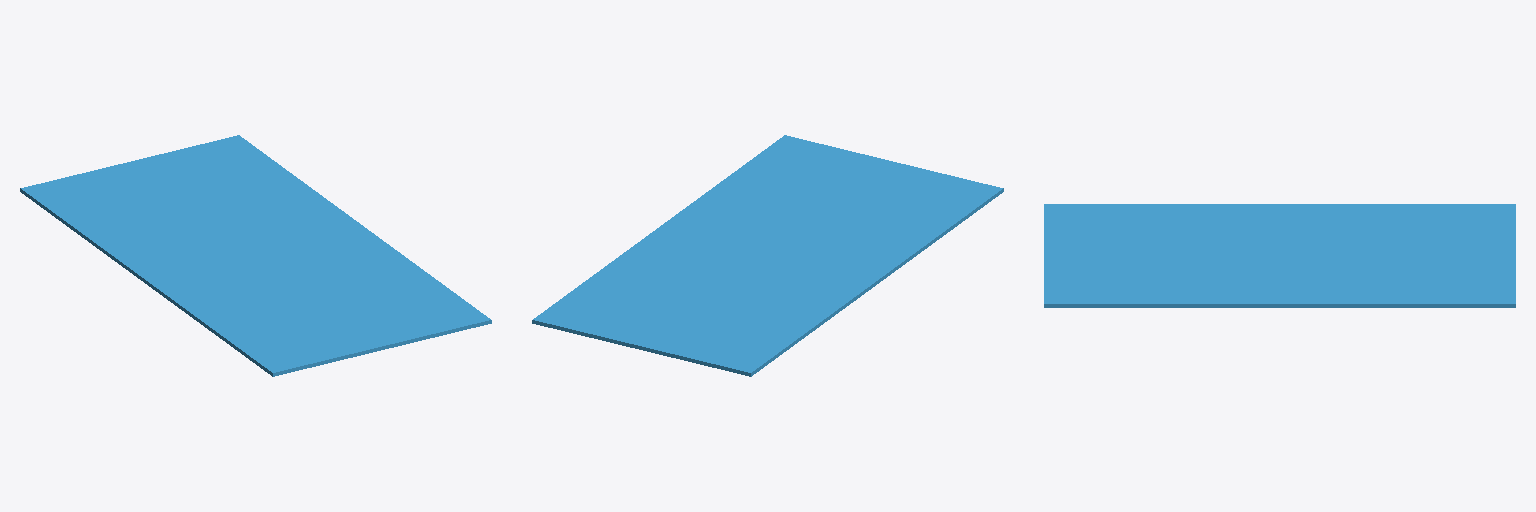
URDF robot description (Banner Buoy):
<?xml version="1.0" encoding="utf-8"?>
<!-- =================================================================================== -->
<!-- |    This document was autogenerated by xacro from sim/scenes/bannerbuoy.urdf.xacro | -->
<!-- |    EDITING THIS FILE BY HAND IS NOT RECOMMENDED                                 | -->
<!-- =================================================================================== -->
<robot name="Banner Buoy">
  <material name="black">
    <color rgba="0.0 0.0 0.0 1.0"/>
  </material>
  <material name="blue">
    <color rgba="0.0 0.0 0.8 1.0"/>
  </material>
  <material name="green">
    <color rgba="0.0 0.8 0.0 1.0"/>
  </material>
  <material name="grey">
    <color rgba="0.2 0.2 0.2 1.0"/>
  </material>
  <material name="orange">
    <color rgba="1.0 0.423529411765 0.0392156862745 1.0"/>
  </material>
  <material name="brown">
    <color rgba="0.870588235294 0.811764705882 0.764705882353 1.0"/>
  </material>
  <material name="red">
    <color rgba="0.8 0.0 0.0 1.0"/>
  </material>
  <material name="white">
    <color rgba="1.0 1.0 1.0 1.0"/>
  </material>
  <pose>0 0 0 0 0 0</pose>
  <self_collide> 0 </self_collide>
  <static>true</static>
  <link name="base_link">
    <inertial>
      <mass value="20"/>
      <origin x="0" y="0" z="-0.1"/>
      <inertia ixx="0" ixy="0" ixz="0" iyy="0" iyz="0" izz="0"/>
    </inertial>
    <visual>
      <origin rpy="3.14159265359 0 0" xyz="0 0 0"/>
      <material name="black"/>
      <geometry>
        <mesh filename="[local-path]/catkin_ws/src/MuddSub/sim/scenes/meshes/Triangle.STL" scale="0.001 0.001 0.001"/>
      </geometry>
    </visual>
  </link>
  <link name="panel1">
    <inertial>
      <mass value="20"/>
      <origin x="0" y="0" z="-0.1"/>
      <inertia ixx="10" ixy="0" ixz="0" iyy="10" iyz="0" izz="10"/>
    </inertial>
    <visual name="red_vis">
      <geometry>
        <box size="0.61 1.22 0.01"/>
      </geometry>
    </visual>
  </link>
  <joint name="base_to_child" type="fixed">
    <parent link="base_link"/>
    <child link="panel1"/>
    <origin rpy="0 0 0" xyz="0.395 -0.63 -1.06"/>
  </joint>
</robot>

--- Facts derived from the render (not from the file) ---
Views: 3 orthographic renders of the robot side by side, from view 1: azimuth 30°, elevation 25°; view 2: azimuth 150°, elevation 25°; view 3: azimuth 270°, elevation 25°.
Model Banner Buoy with 2 links and 1 joints (1 fixed), rooted at base_link, posed all joints at 0.
Links seen in each view (by area): view 1: panel1; view 2: panel1; view 3: panel1.
Boxes of the visible links, left/top/right/bottom form: panel1: left=20, top=135, right=491, bottom=376; panel1: left=532, top=135, right=1003, bottom=376; panel1: left=1044, top=204, right=1515, bottom=307.
Bounding box of the posed robot: 0.61 × 1.22 × 0.01 m (x, y, z).
Geometry: only primitive shapes (box / cylinder / sphere) drawn; not drawn: 1 mesh visual (reference in a form the renderer does not follow).